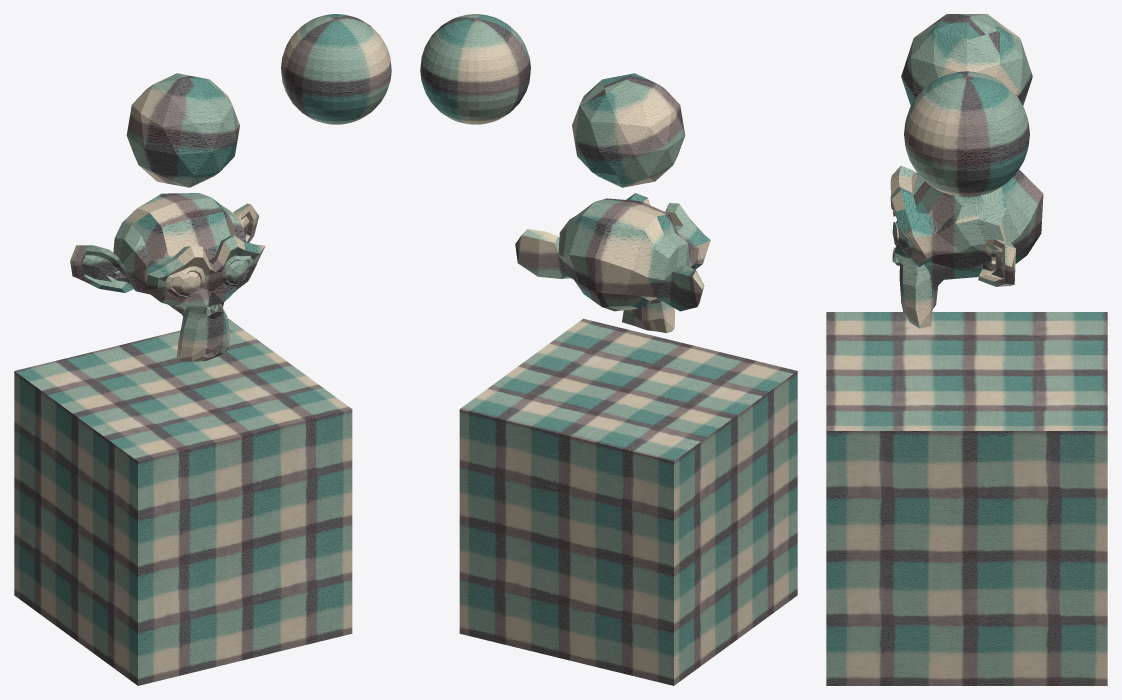
The picture shows the model from 3 angles, left to right: view 1: azimuth 30°, elevation 25°; view 2: azimuth 150°, elevation 25°; view 3: azimuth 270°, elevation 25°; orthographic projection. The views are drawn at different scales.
Visible parts, largest first — view 1: Cube, Suzanne, Icosphere, Sphere; view 2: Cube, Suzanne, Icosphere, Sphere; view 3: Cube, Suzanne, Sphere, Icosphere.
Boxes of the visible parts, x1,y1,x2,y2 form: Cube: [14, 318, 352, 685]; Suzanne: [70, 193, 265, 362]; Icosphere: [126, 73, 239, 187]; Sphere: [281, 14, 391, 124]; Cube: [459, 318, 797, 685]; Suzanne: [515, 193, 710, 332]; Icosphere: [572, 73, 685, 187]; Sphere: [420, 14, 530, 124]; Cube: [826, 312, 1107, 685]; Suzanne: [890, 165, 1043, 328]; Sphere: [904, 71, 1029, 197]; Icosphere: [901, 14, 1032, 105].
Size of the model in its own units: 2.87 by 4.97 by 2.
1 material, 1 textured.
